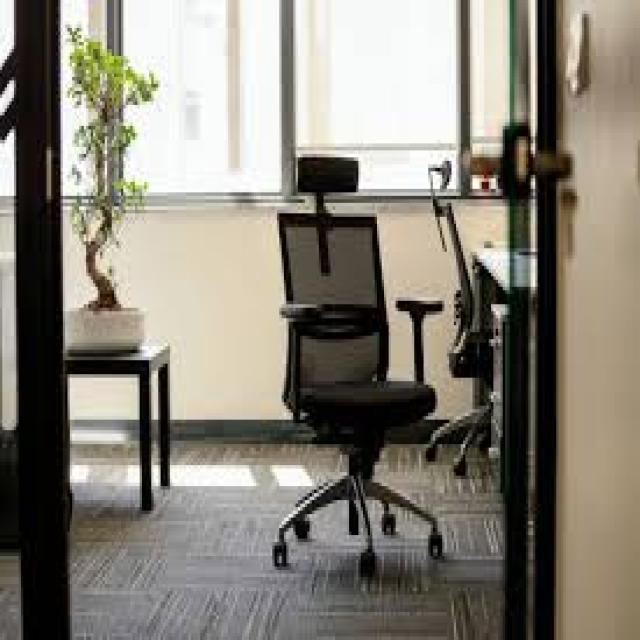chair: (234, 138, 453, 594), (394, 143, 524, 497)
